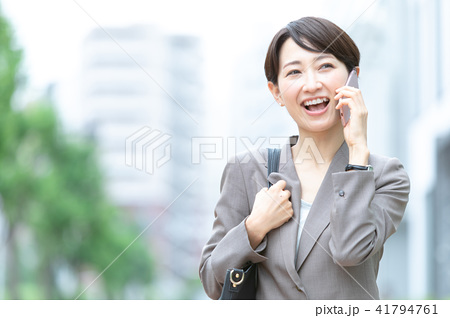phone: (333, 70, 369, 123)
talk: (281, 53, 374, 152)
